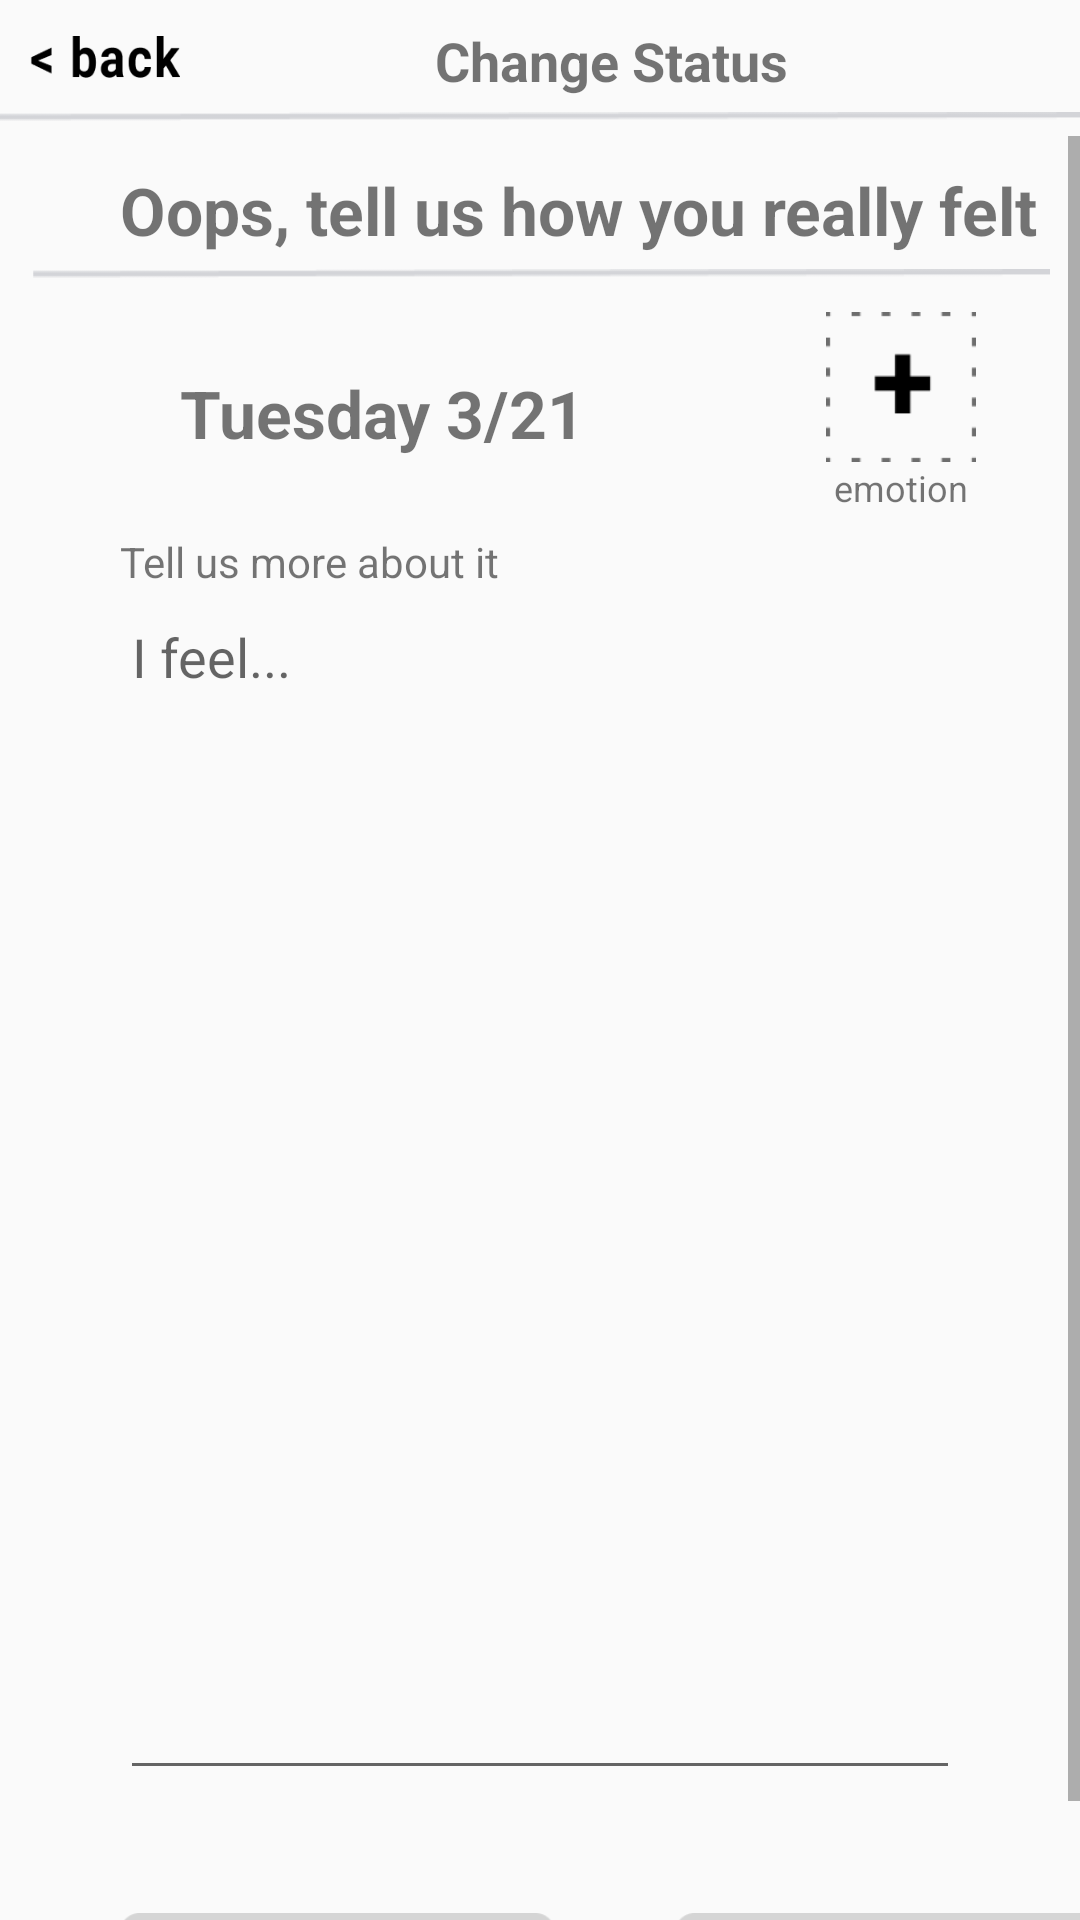

Icons on this 1080×1920 Android screen, each with its box as {"x1": x1, "y1": y1, "x2": x2, "y2": y2}:
plus: {"x1": 826, "y1": 312, "x2": 976, "y2": 462}
